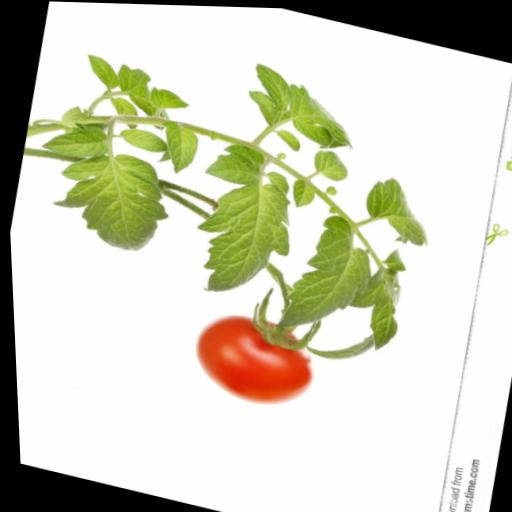Healthy: (179, 167, 301, 307), (268, 202, 381, 346), (43, 139, 179, 258), (299, 229, 412, 372), (236, 58, 365, 152), (356, 169, 438, 248), (107, 61, 178, 131), (39, 116, 109, 164), (155, 120, 203, 177), (199, 145, 261, 187), (306, 145, 352, 184), (81, 52, 123, 91), (118, 123, 170, 154), (145, 84, 192, 117), (104, 93, 141, 130), (287, 175, 317, 209)
